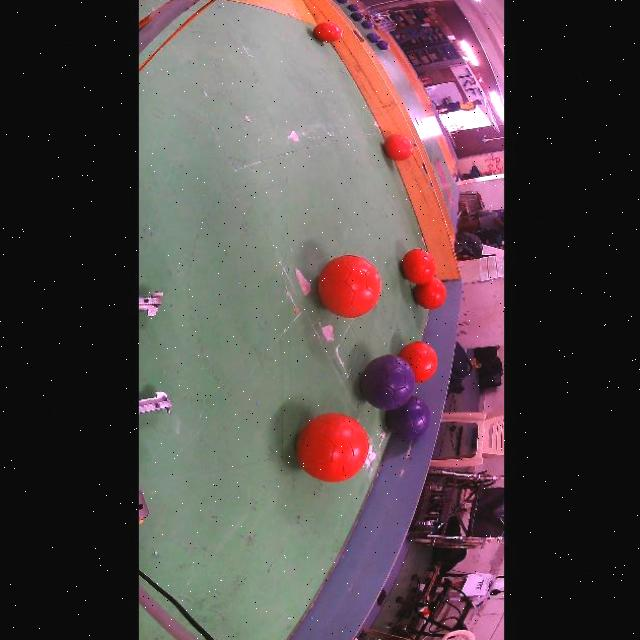P: (359, 355, 415, 409), (386, 395, 430, 440), (367, 32, 381, 44), (361, 20, 375, 30), (376, 40, 390, 50), (347, 4, 359, 12), (336, 0, 349, 4)
R: (296, 413, 370, 482), (317, 255, 381, 319), (399, 342, 437, 383), (401, 248, 436, 285), (414, 277, 446, 309), (383, 135, 413, 161), (314, 22, 343, 42)
